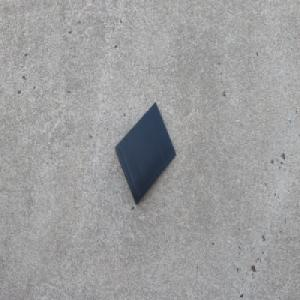PlasticPart: (113, 100, 176, 206)
